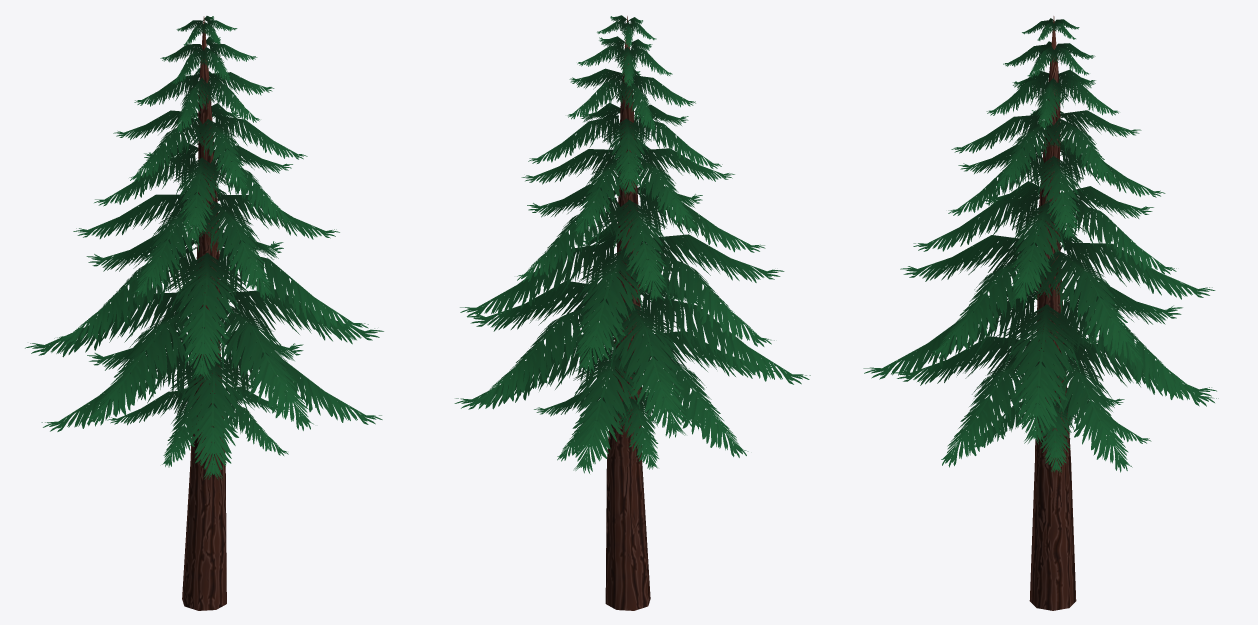
Rendered from pineTree04.obj.
The picture shows the model from 3 angles, left to right: view 1: azimuth 30°, elevation 25°; view 2: azimuth 150°, elevation 25°; view 3: azimuth 270°, elevation 25°; orthographic projection.
Visible parts, largest first — view 1: leaves_Plane.104, bark_Circle; view 2: leaves_Plane.104, bark_Circle; view 3: leaves_Plane.104, bark_Circle.
Boxes of the visible parts, <box> form: leaves_Plane.104: <box>25,16,383,479</box>; bark_Circle: <box>182,16,226,610</box>; leaves_Plane.104: <box>454,15,810,473</box>; bark_Circle: <box>605,16,650,610</box>; leaves_Plane.104: <box>863,18,1218,472</box>; bark_Circle: <box>1029,16,1076,610</box>.
Size of the model in its own units: 1.83 by 2.99 by 1.81.
